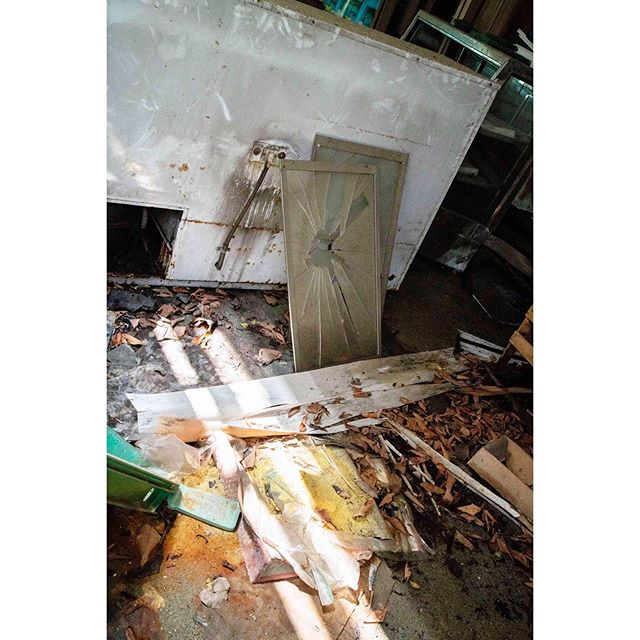trash: (111, 1, 531, 624)
